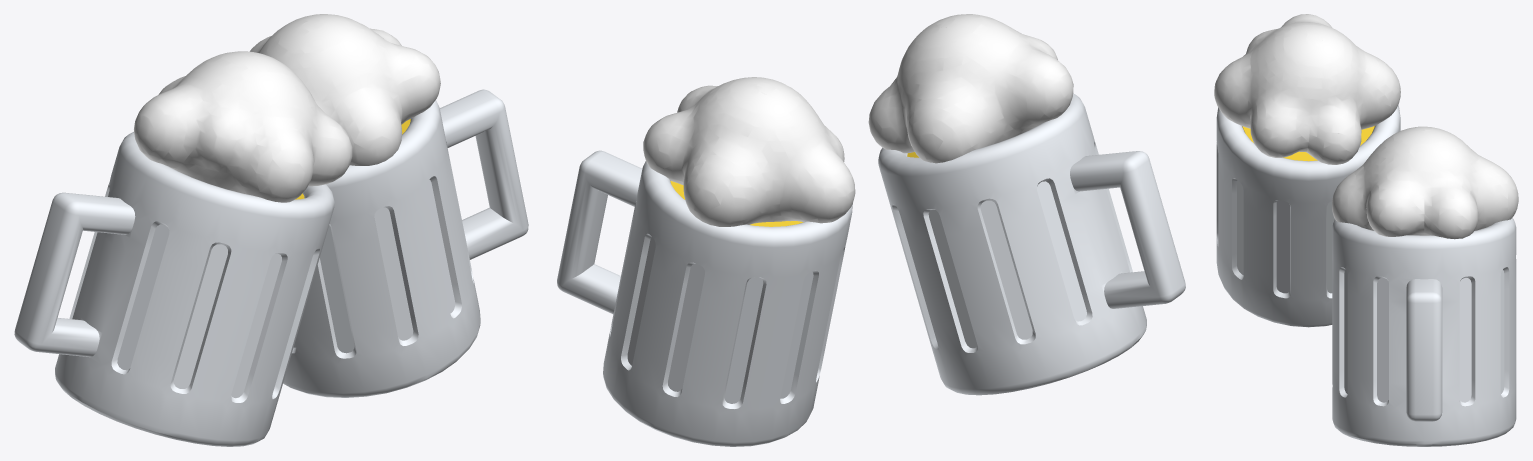
Rendered from clinking_beer_mugs.gltf.
The picture shows the model from 3 angles, left to right: view 1: azimuth 30°, elevation 25°; view 2: azimuth 150°, elevation 25°; view 3: azimuth 270°, elevation 25°; orthographic projection. The views are drawn at different scales.
Visible parts, largest first — view 1: Circle.2321; view 2: Circle.2321; view 3: Circle.2321.
Part boxes in pixels (box(x1,y1,x2,y2)): Circle.2321: box(14, 14, 528, 446); Circle.2321: box(557, 14, 1185, 446); Circle.2321: box(1214, 14, 1518, 446).
Bounding box in the file's own units: 2.36 × 1.59 × 1.32.
Materials: 2 (1 with a texture image).
